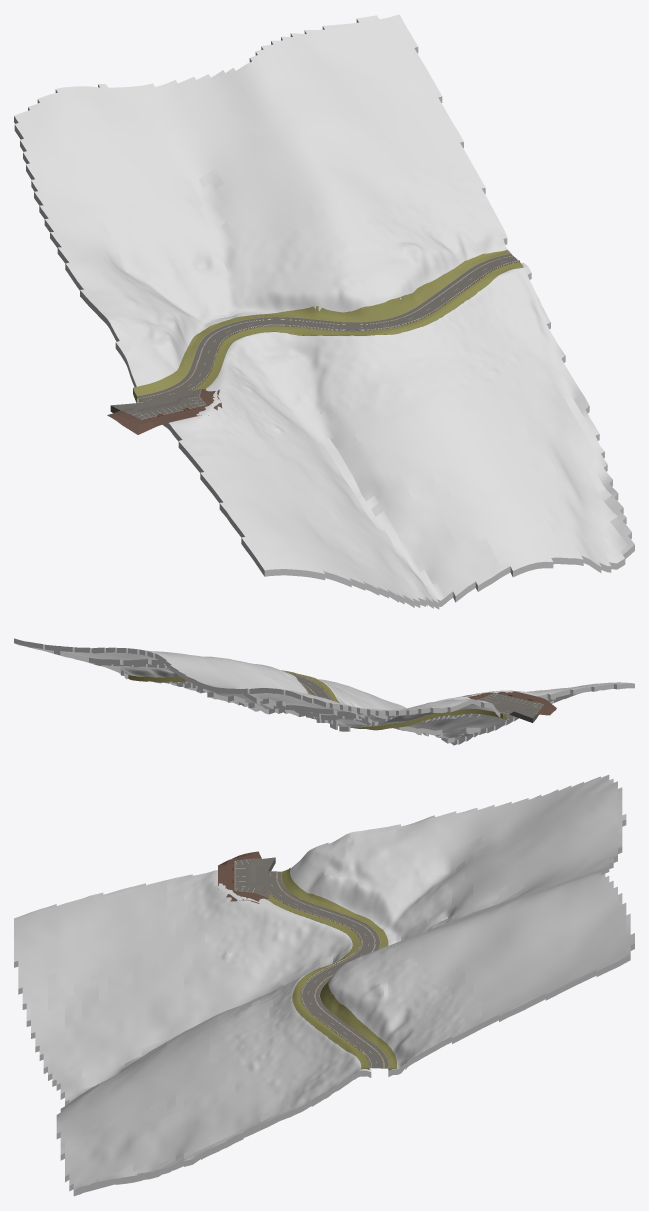
The model's file is conz_1.glb.
3 renders of one model, top to bottom at view 1: azimuth 30°, elevation 25°; view 2: azimuth 150°, elevation 25°; view 3: azimuth 270°, elevation 25°, orthographic. The views are drawn at different scales.
Parts seen in each view (by area): view 1: terrain1, road1, verge1L, verge1R, apron1_3, lot1_3; view 2: terrain1, verge1L, lot1_3, apron1_3, road1, verge1R; view 3: terrain1, road1, verge1L, verge1R, lot1_3, apron1_3.
Boxes of the visible parts, <box> form: terrain1: <box>14,14,634,609</box>; road1: <box>137,254,519,402</box>; verge1L: <box>133,250,510,402</box>; verge1R: <box>190,262,523,391</box>; apron1_3: <box>107,389,222,434</box>; lot1_3: <box>110,389,205,419</box>; terrain1: <box>14,638,634,745</box>; verge1L: <box>128,675,507,730</box>; lot1_3: <box>476,693,543,722</box>; apron1_3: <box>463,690,556,715</box>; road1: <box>289,673,513,715</box>; verge1R: <box>281,670,339,702</box>; terrain1: <box>14,774,634,1196</box>; road1: <box>263,871,388,1068</box>; verge1L: <box>281,867,396,1070</box>; verge1R: <box>267,894,369,1069</box>; lot1_3: <box>235,857,275,897</box>; apron1_3: <box>218,851,268,903</box>.
Bounding box in the file's own units: 245 × 152 × 292.
